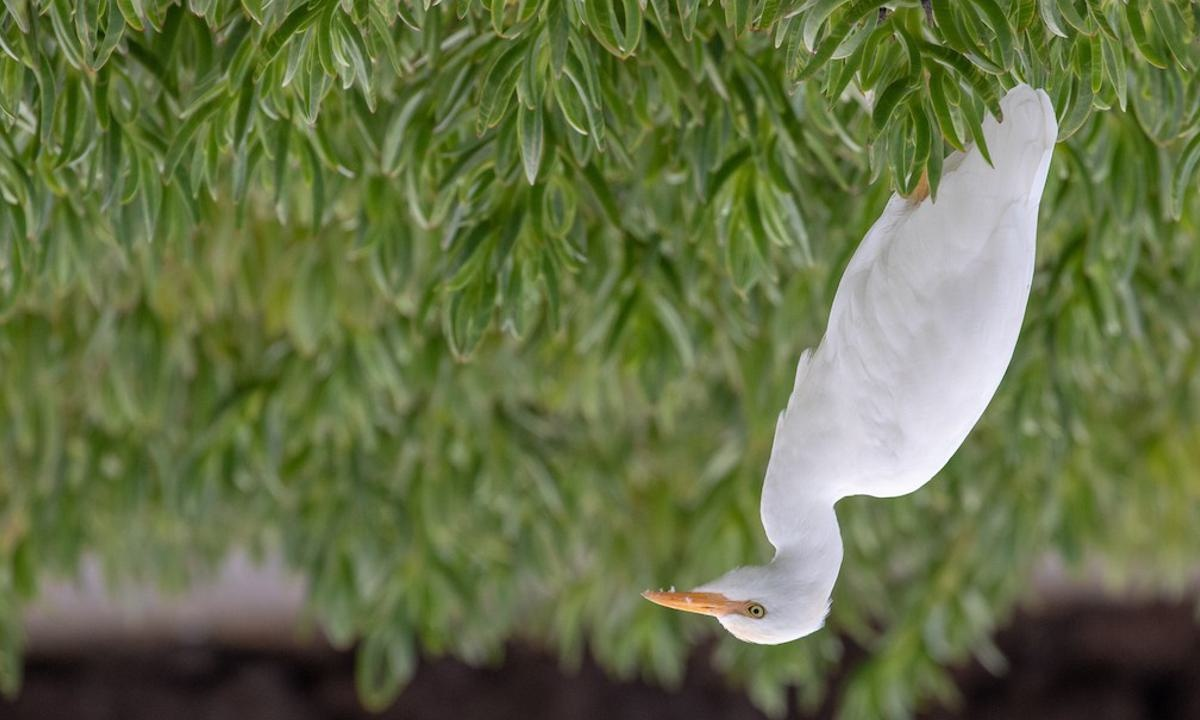egret: (611, 87, 1123, 651)
